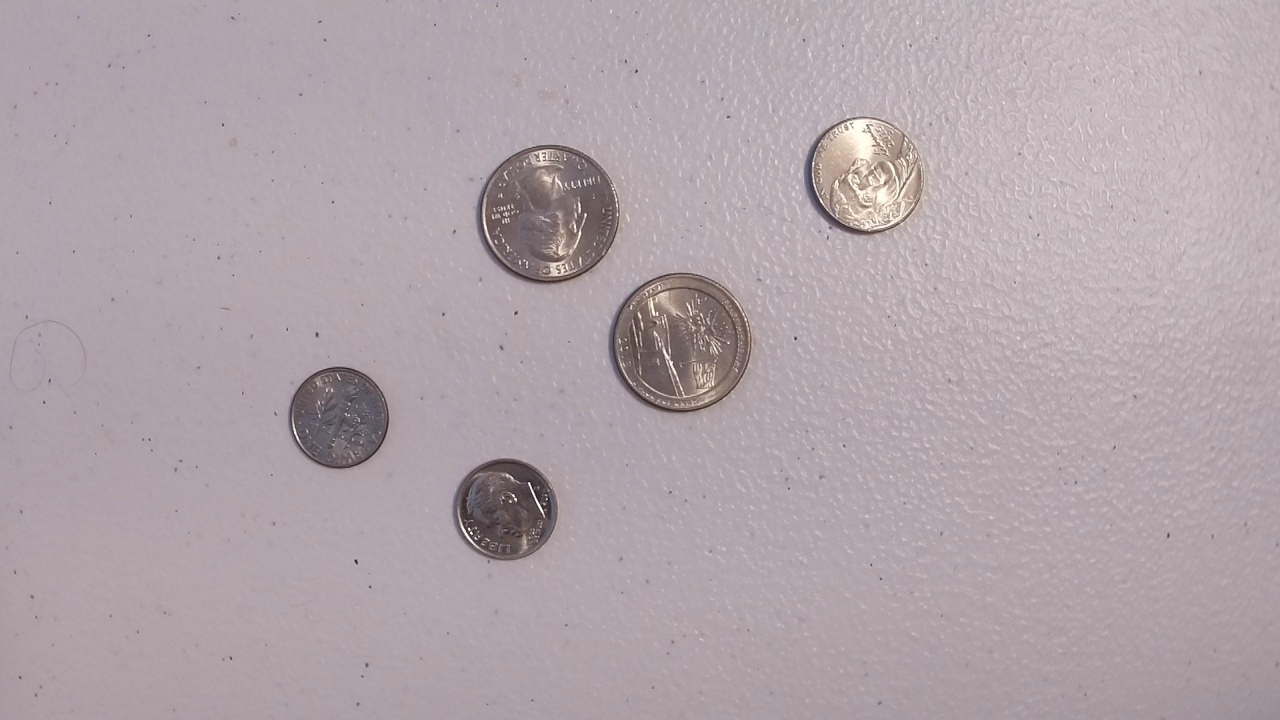dime: (284, 362, 394, 472), (452, 456, 560, 564)
nickel: (804, 114, 926, 238)
quarter: (606, 265, 754, 419), (480, 137, 620, 287)
